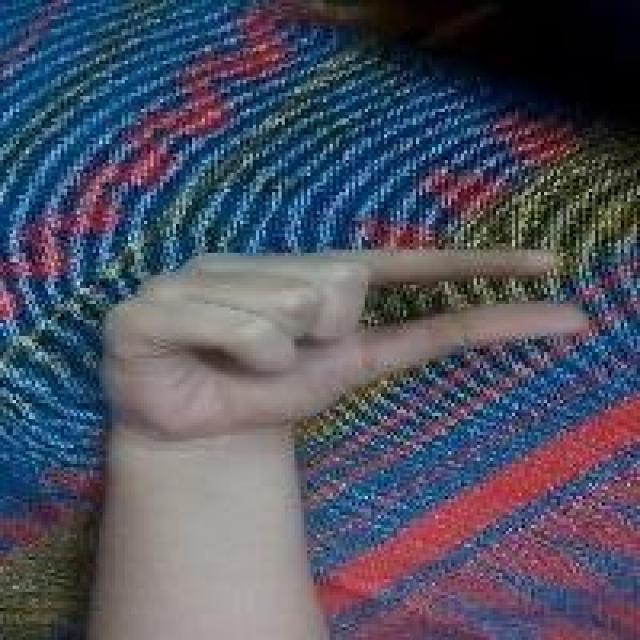G: (91, 243, 594, 451)
